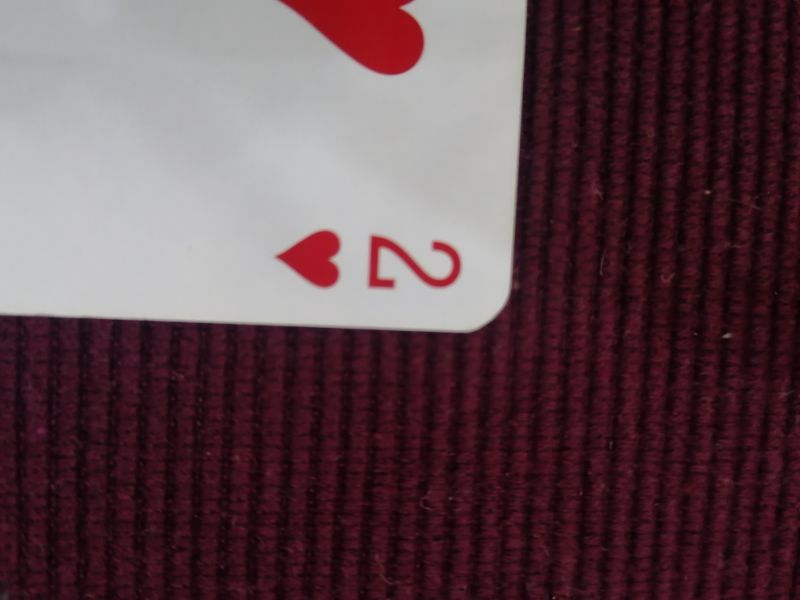2h: (271, 221, 470, 302)
